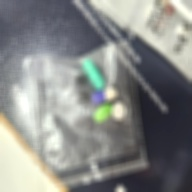러키펜정: (112, 102, 126, 121)
씨엠지세파클러캡슐: (91, 88, 118, 105)
에르도캡슐: (83, 59, 105, 91)
휴티렌정: (93, 103, 113, 123)
